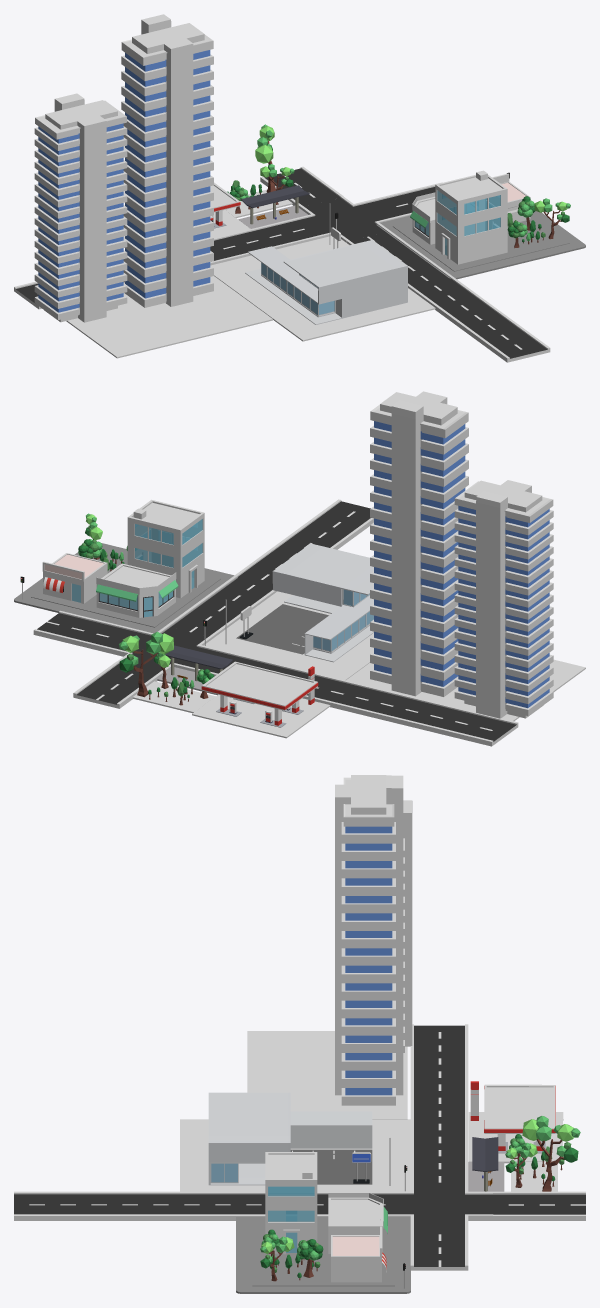
The model's file is City Latest.fbx.
3 renders of one model, top to bottom at view 1: azimuth 30°, elevation 25°; view 2: azimuth 150°, elevation 25°; view 3: azimuth 270°, elevation 25°, orthographic. The views are drawn at different scales.
Parts seen in each view (by area): view 1: Cube.022, Cube.024, Plane.029, Cube.023, road, Building 1, Cube.043, platform, road junction, road4, Cylinder.006, road2 (+8 smaller); view 2: Cube.022, Cube.024, Plane.029, road, road4, Cube.052, Building 1, platform, Cube.043, shop 2, shop1, Plane.007 (+7 smaller); view 3: Cube.022, Plane.029, road4, road, Cube.023, platform, Cube.043, Cube.052, Building 1, road junction, road2, road1 (+7 smaller).
Boxes of the visible parts, left/top/right/bottom form: Cube.022: left=121, top=14, right=213, bottom=307; Cube.024: left=34, top=93, right=127, bottom=322; Plane.029: left=245, top=240, right=407, bottom=324; Cube.023: left=66, top=276, right=272, bottom=358; road: left=346, top=230, right=550, bottom=362; Building 1: left=435, top=170, right=507, bottom=264; Cube.043: left=210, top=236, right=435, bottom=341; platform: left=376, top=211, right=585, bottom=279; road junction: left=293, top=196, right=397, bottom=242; road4: left=14, top=219, right=317, bottom=309; Cylinder.006: left=238, top=185, right=309, bottom=228; road2: left=260, top=166, right=342, bottom=208; Cube.022: left=370, top=391, right=468, bottom=696; Cube.024: left=454, top=480, right=553, bottom=718; Plane.029: left=272, top=543, right=373, bottom=662; road: left=167, top=499, right=373, bottom=638; road4: left=194, top=650, right=518, bottom=746; Cube.052: left=192, top=661, right=330, bottom=738; Building 1: left=127, top=499, right=204, bottom=598; platform: left=14, top=543, right=237, bottom=633; Cube.043: left=204, top=591, right=373, bottom=680; shop 2: left=96, top=563, right=178, bottom=617; shop1: left=42, top=553, right=107, bottom=603; Plane.007: left=236, top=604, right=328, bottom=654; Cube.022: left=335, top=775, right=403, bottom=1105; Plane.029: left=208, top=1092, right=372, bottom=1185; road4: left=410, top=1024, right=468, bottom=1182; road: left=14, top=1191, right=385, bottom=1220; Cube.023: left=247, top=1031, right=407, bottom=1119; platform: left=236, top=1217, right=410, bottom=1293; Cube.043: left=180, top=1119, right=410, bottom=1191; Cube.052: left=468, top=1081, right=563, bottom=1163; Building 1: left=265, top=1152, right=317, bottom=1254; road junction: left=385, top=1181, right=493, bottom=1227; road2: left=493, top=1191, right=585, bottom=1220; road1: left=410, top=1226, right=468, bottom=1270.
Size of what is drawn, in the model's own units: 1239 by 669 by 1106.
